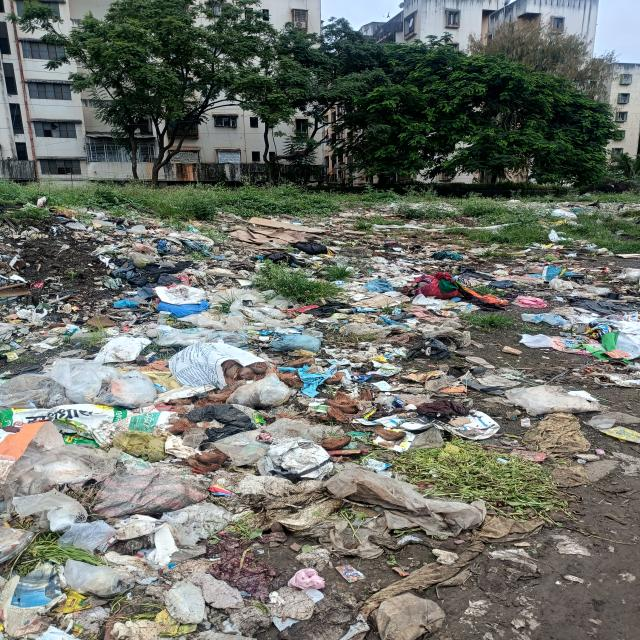garbage: (2, 207, 640, 640)
